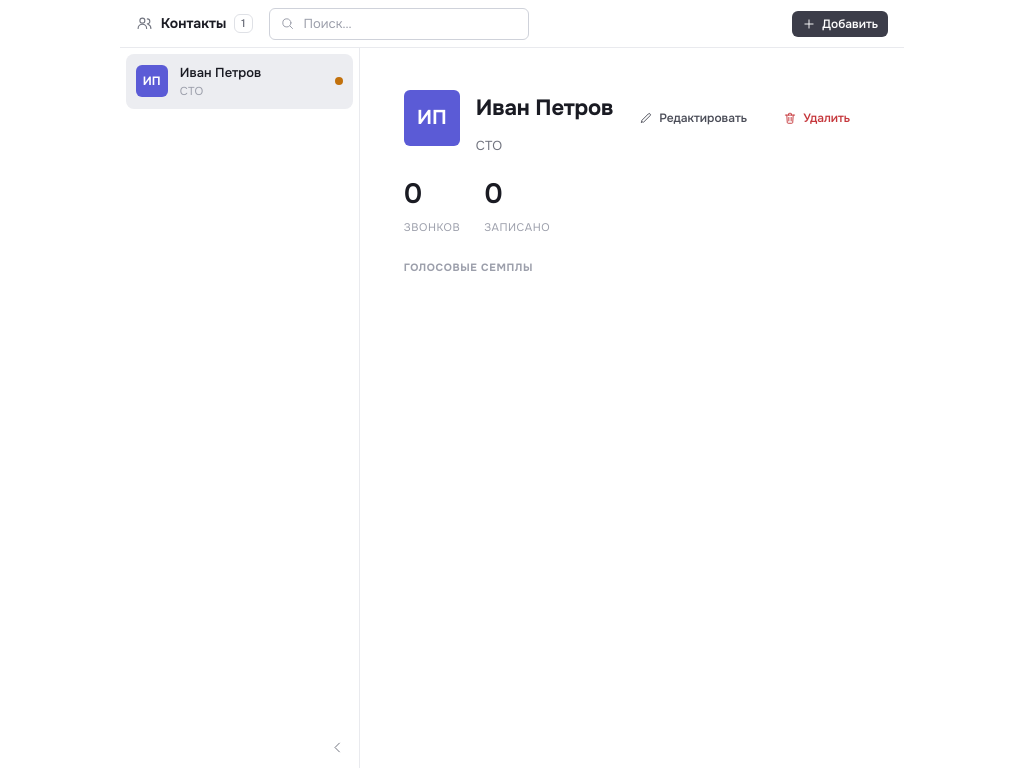
Scenario: ContactsPage › failed create keeps dialog open with error visible INSIDE it
expect the text "Иван Петров" is shown: met, box top-left (180, 64), bottom-right (261, 81)
Click the button with aria-label "Добавить контакт" at (840, 24), box top-left (792, 10), bottom-right (888, 36)
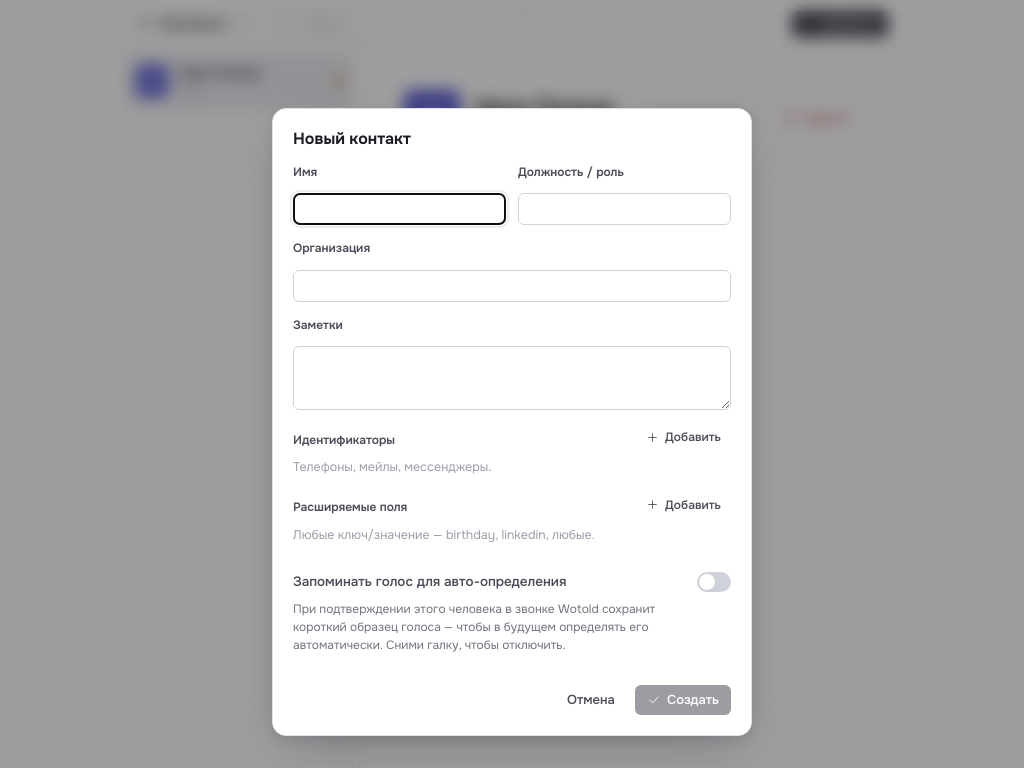
Type "Анна" into the field labelled "Имя" at (400, 209), box top-left (293, 193), bottom-right (506, 225)
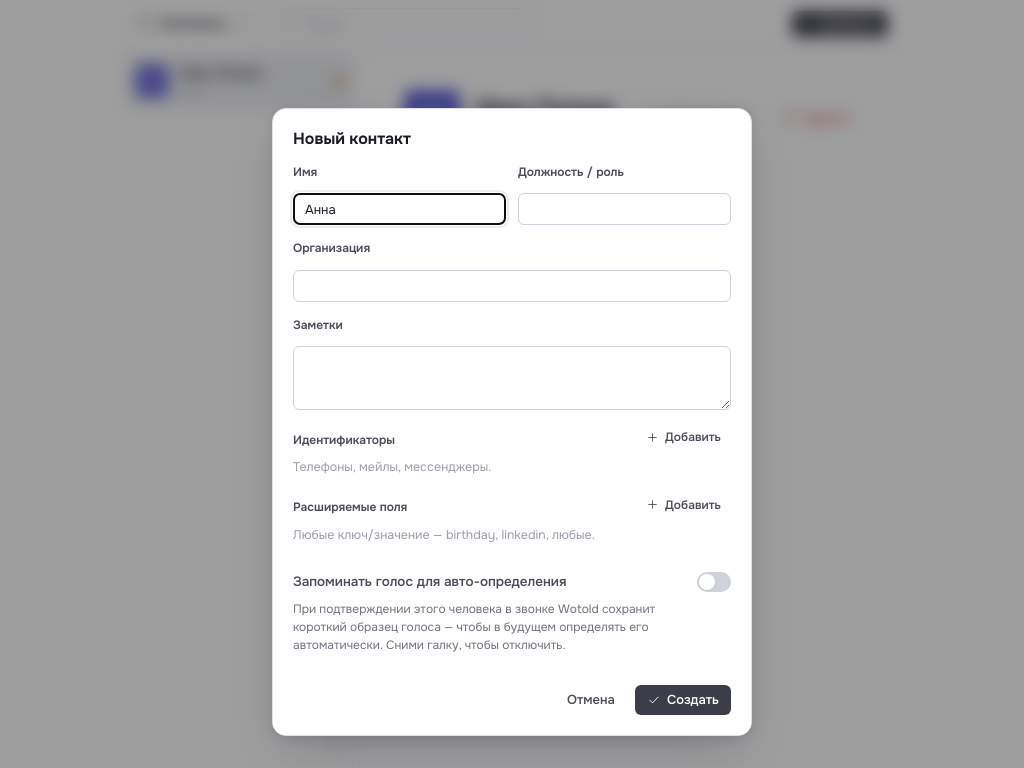
Submit the form, box top-left (293, 162), bottom-right (731, 667)
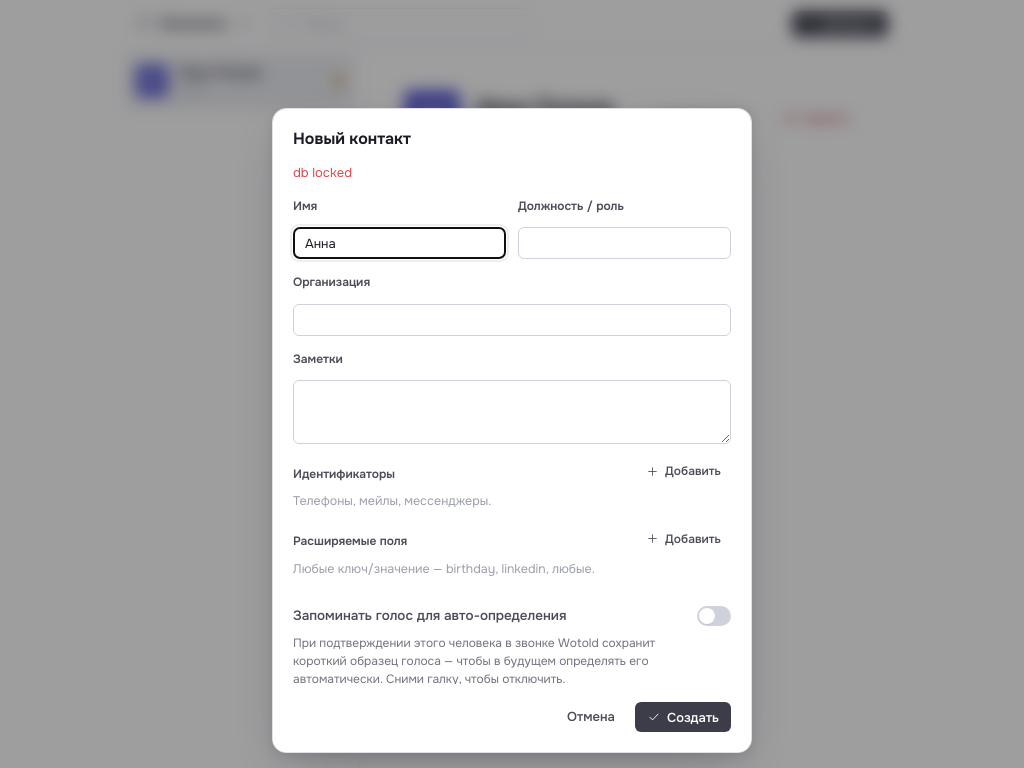
expect the message "db locked" is shown: met, box top-left (293, 164), bottom-right (352, 180)
